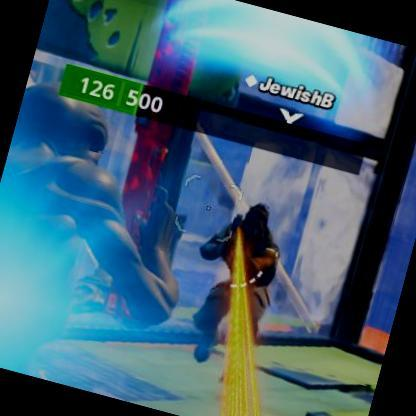Person: (197, 212, 287, 388)
